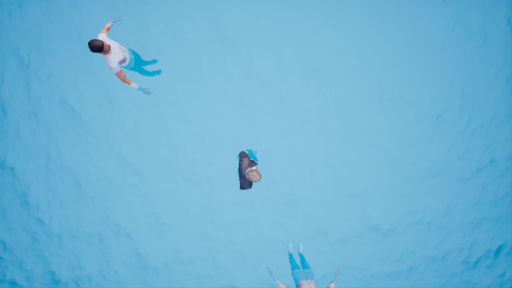person: (90, 12, 162, 98), (274, 242, 333, 288), (234, 141, 267, 194)
